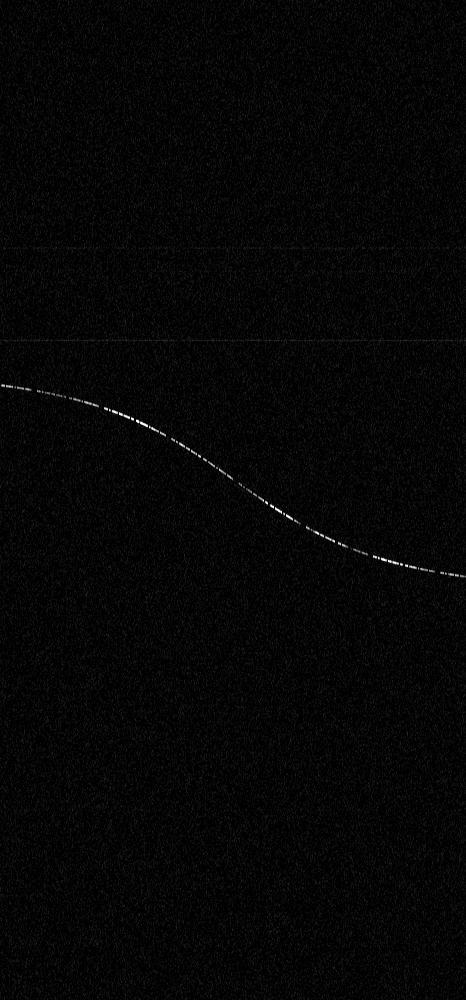signal: (0, 0, 465, 999)
